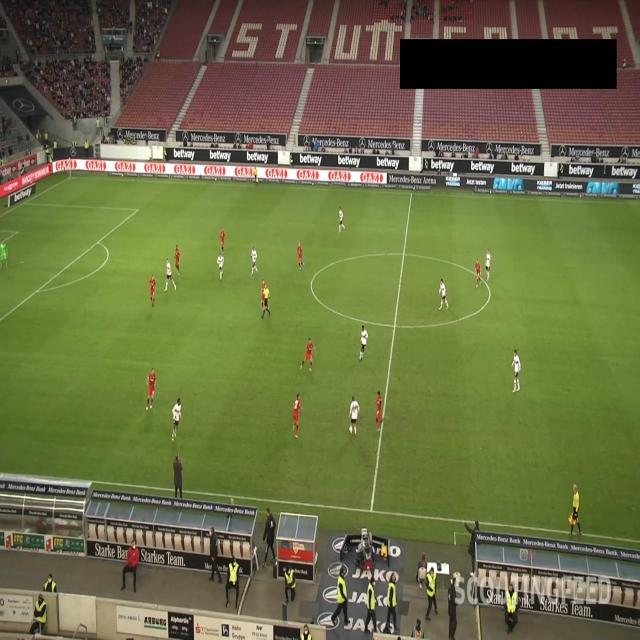ball: (349, 426, 353, 432)
